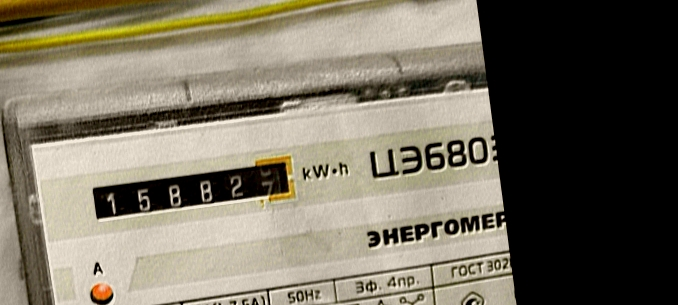1: (105, 190, 120, 217)
2: (228, 173, 247, 200)
5: (136, 186, 153, 214)
7: (260, 178, 277, 197)
8: (166, 182, 185, 209), (198, 178, 216, 205)
screen: (82, 149, 306, 235)
